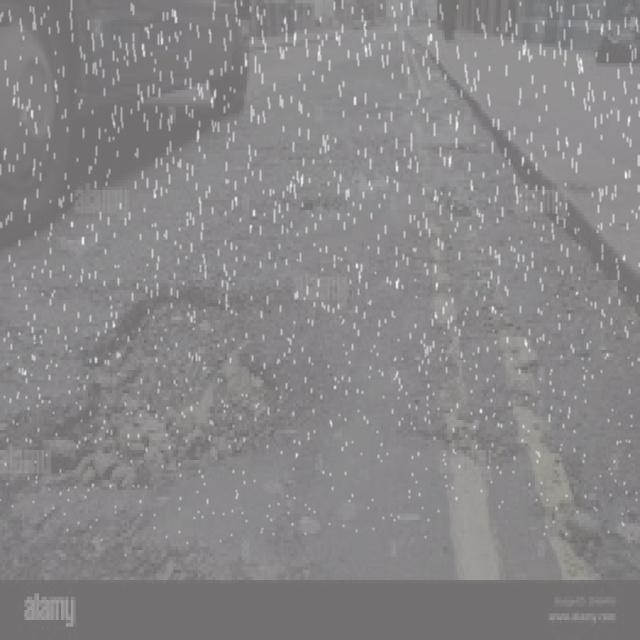Pothole: (43, 286, 261, 514)
